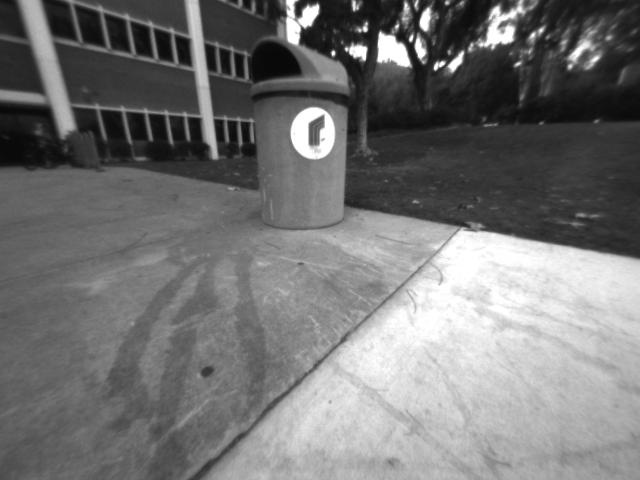trashcan: (231, 34, 365, 242)
